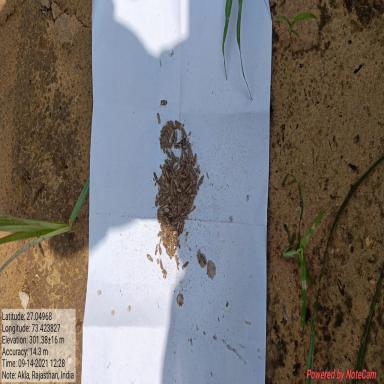pbw: (197, 174, 203, 184), (146, 253, 153, 261), (165, 149, 171, 158), (174, 119, 180, 128), (153, 171, 158, 181), (168, 248, 172, 259), (156, 112, 160, 123), (158, 244, 162, 255), (160, 98, 167, 104), (154, 244, 158, 254), (161, 143, 165, 153), (170, 128, 174, 138), (180, 223, 184, 232), (165, 170, 169, 179), (155, 194, 158, 206), (173, 163, 178, 170), (163, 207, 170, 212), (196, 165, 200, 173), (177, 219, 180, 229), (176, 187, 182, 192), (171, 151, 175, 158), (173, 178, 177, 185), (161, 173, 165, 180), (180, 151, 183, 159), (172, 230, 178, 234), (174, 144, 180, 148), (198, 248, 200, 260), (182, 175, 188, 179), (194, 170, 198, 176), (184, 260, 188, 266), (165, 219, 169, 224), (194, 152, 196, 162), (187, 167, 189, 177), (163, 204, 168, 208), (190, 193, 196, 196), (189, 180, 192, 186), (167, 128, 170, 134), (158, 210, 162, 214), (180, 212, 184, 216), (168, 212, 172, 215)
